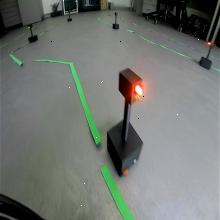red: (119, 67, 144, 105)
